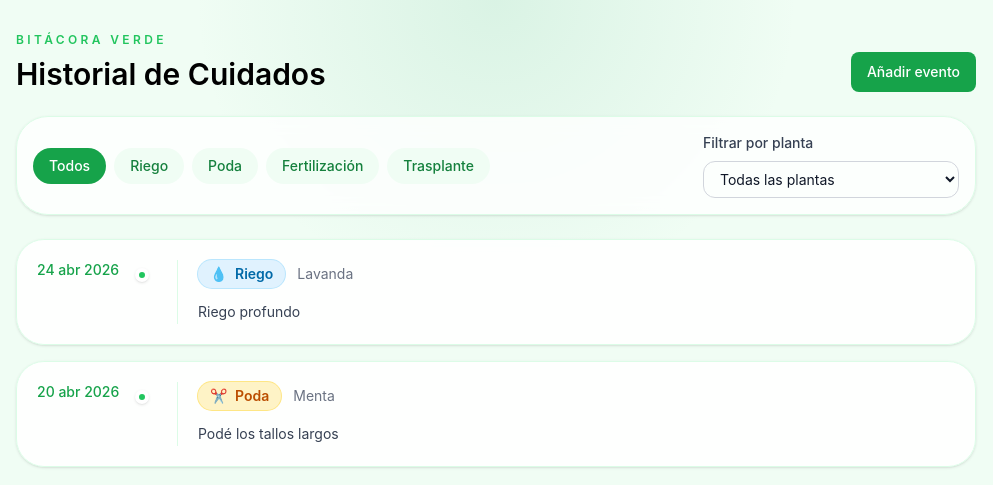
Test: History page › filters timeline by care type
The width and height of the screenshot is (993, 485).
Step 1. Click the button "Poda" → (225, 166), box [192, 148, 258, 184]
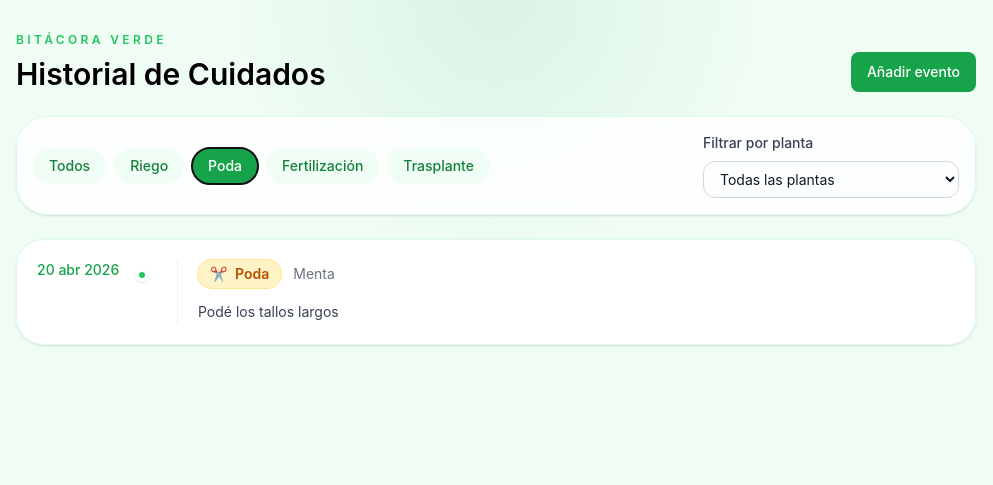
Expected: the text "Podé los tallos largos" is shown, [198, 303, 339, 320]
Now the text "Riego profundo" is gone
